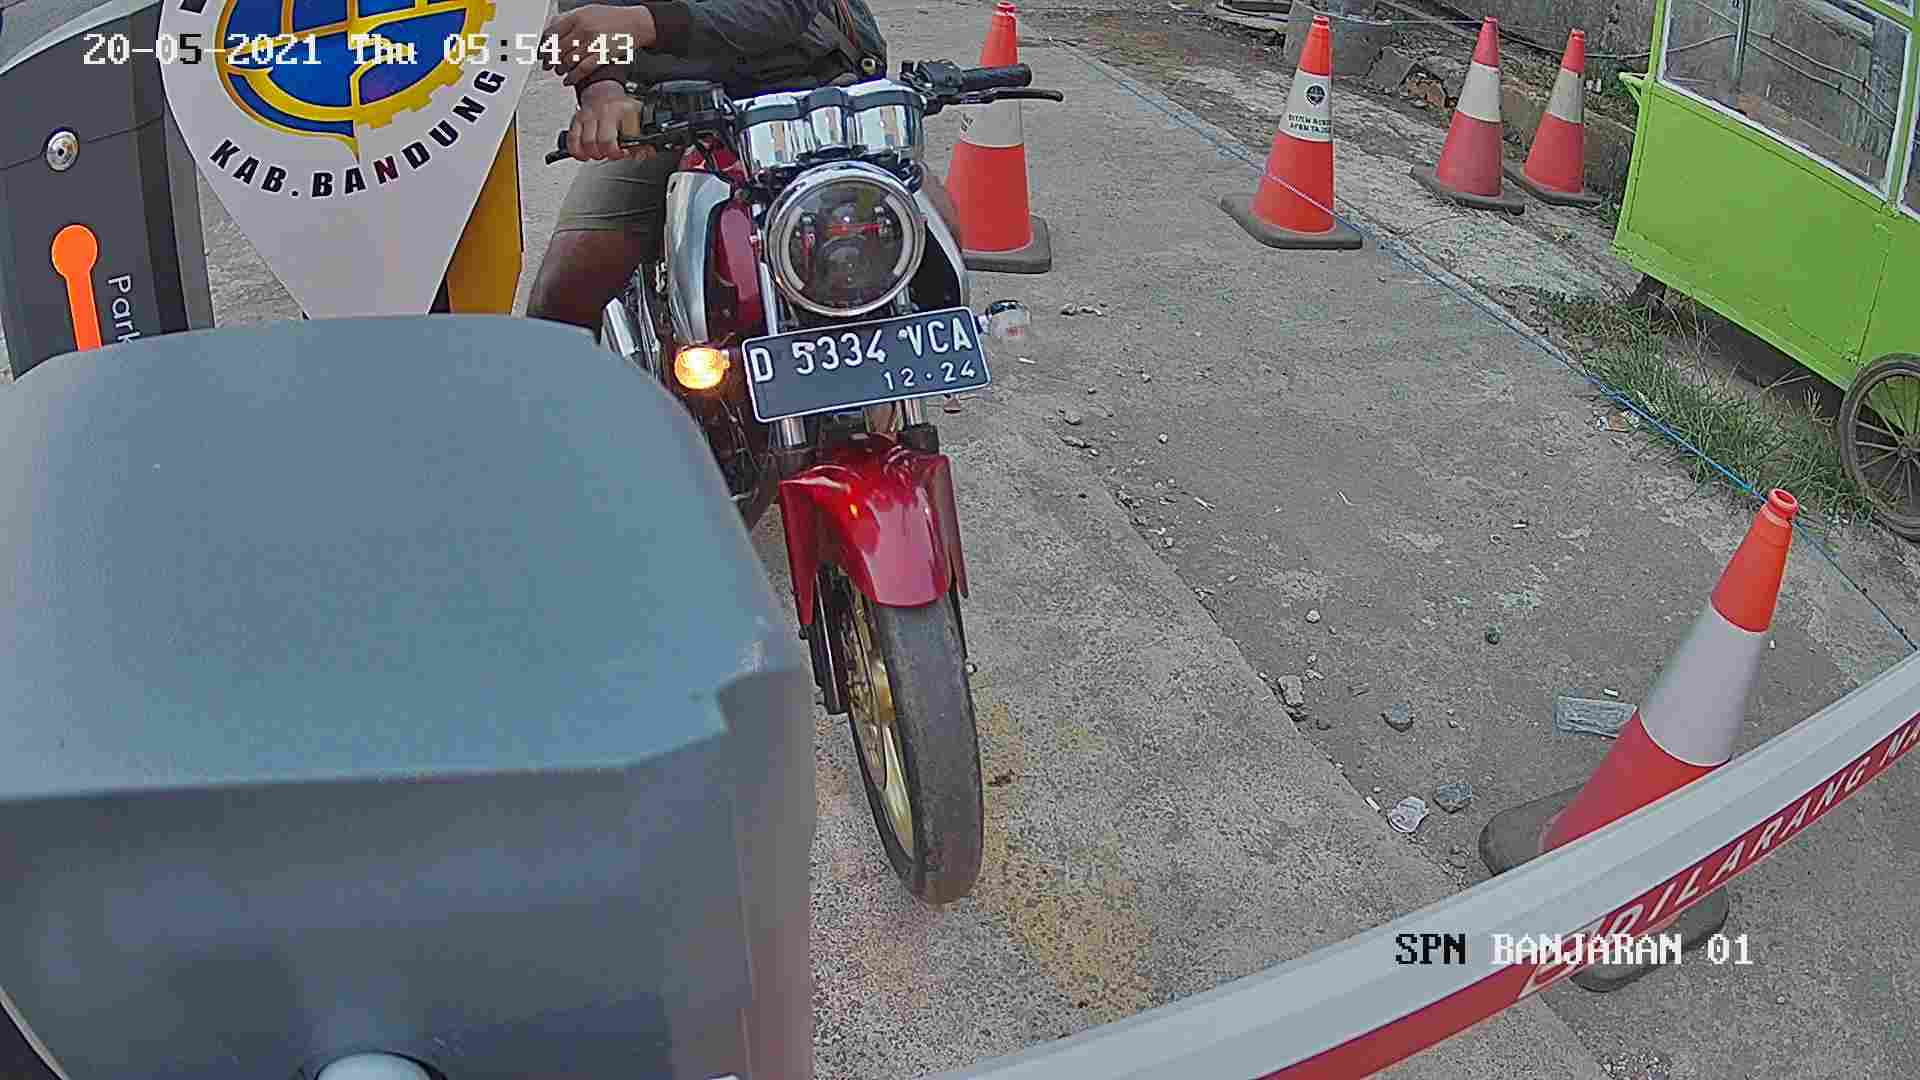motor: (583, 73, 1145, 915)
